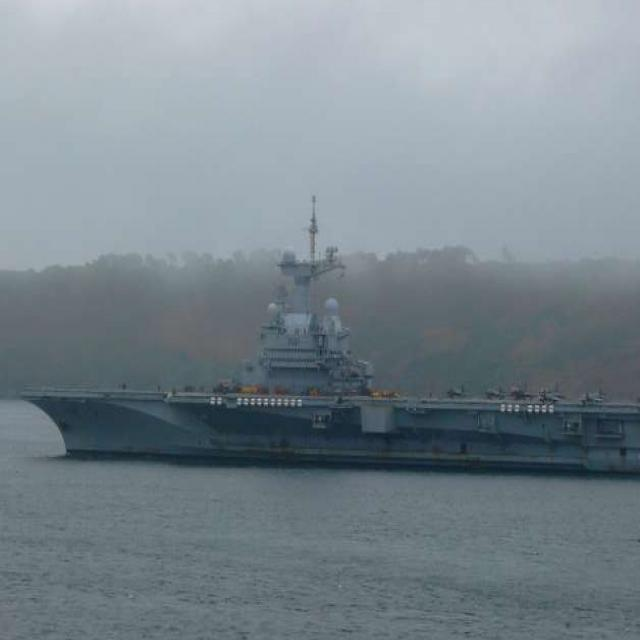Portanaves: (6, 185, 640, 484)
